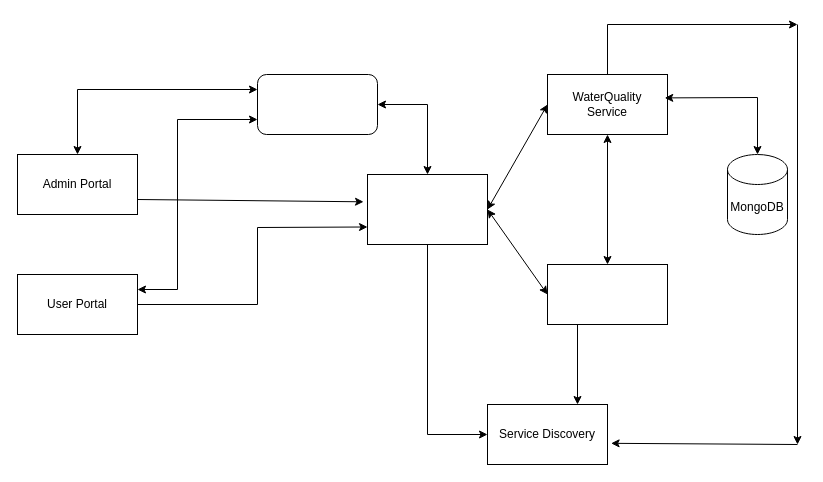
Some shapes in this 823 by 482 pixel diagram are drawn without their labels. The centre of each missing label's shape, as x and y in pixels:
"API Gateway" belongs at (x=427, y=209).
"Keycloak" belongs at (x=317, y=104).
"RewardService" belongs at (x=607, y=294).
